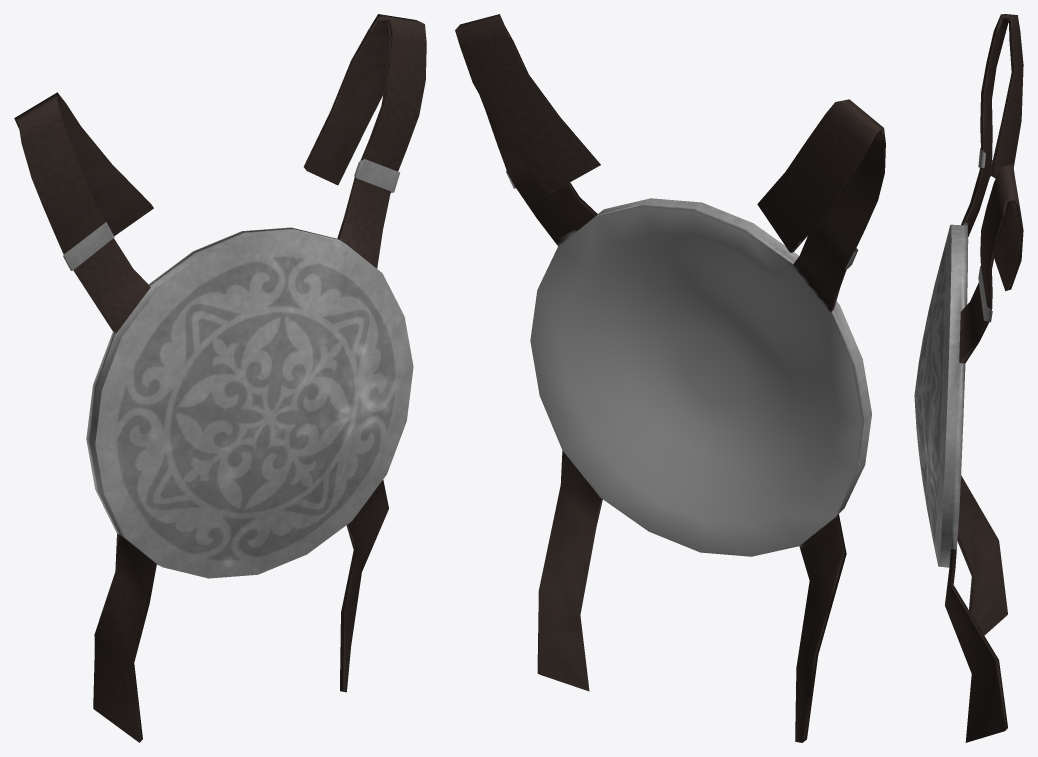
Rendered from guard.fbx.
3 views of the same model, side by side, from view 1: azimuth 30°, elevation 25°; view 2: azimuth 150°, elevation 25°; view 3: azimuth 270°, elevation 25° (orthographic). The views are drawn at different scales.
Visible parts, largest first — view 1: guard_geo; view 2: guard_geo; view 3: guard_geo.
Boxes of the visible parts, <box> form: guard_geo: <box>14,14,426,742</box>; guard_geo: <box>455,14,885,742</box>; guard_geo: <box>914,14,1023,742</box>.
Size of the model in its own units: 15.21 by 23.13 by 3.78.
Materials: 1 (1 with a texture image).
